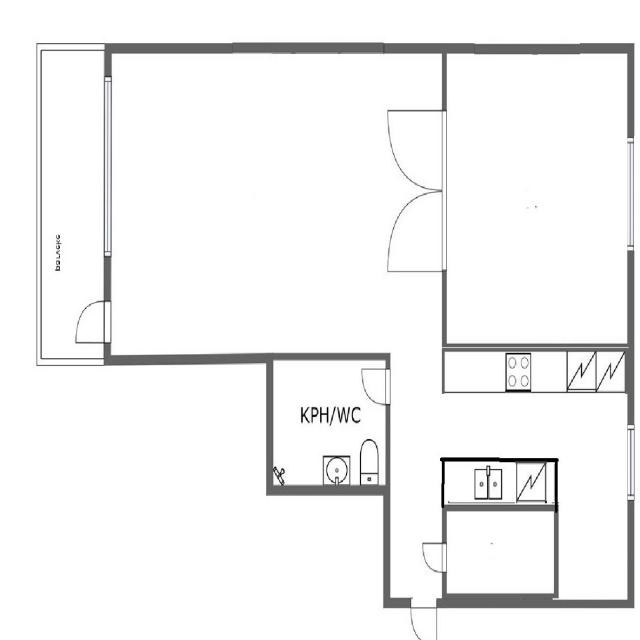door: (388, 111, 448, 190), (388, 190, 448, 269), (74, 298, 110, 342), (412, 597, 438, 640), (361, 368, 391, 404), (421, 541, 447, 571)
